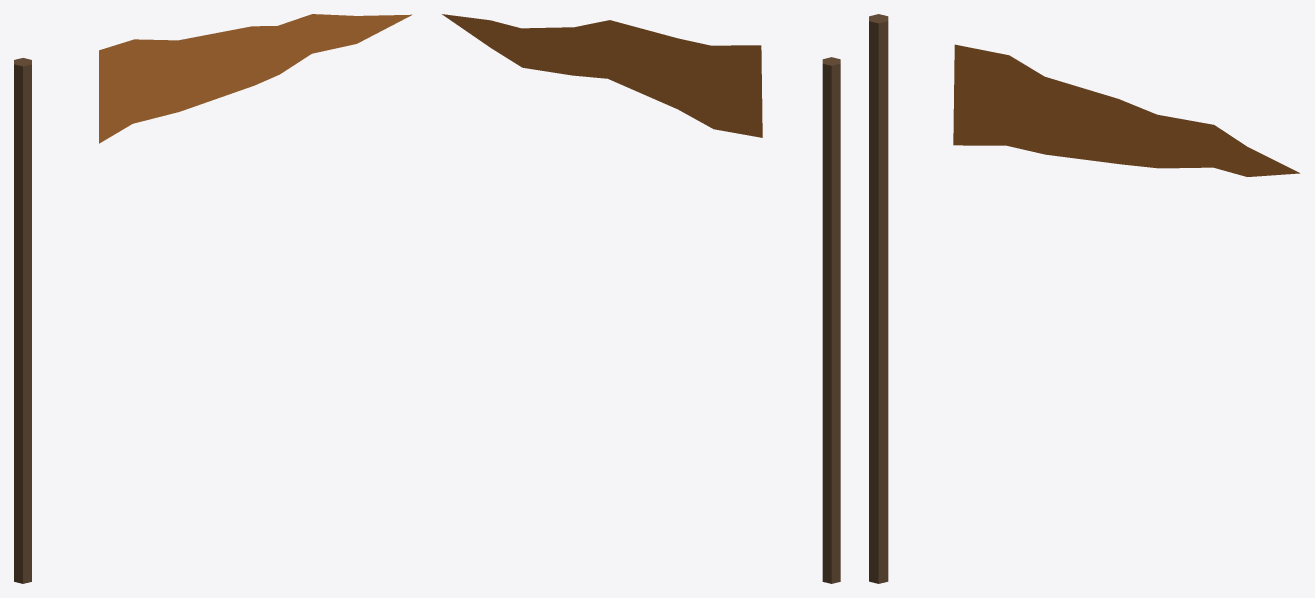
File: wavingflag.fbx
The picture shows the model from 3 angles, left to right: view 1: azimuth 30°, elevation 25°; view 2: azimuth 150°, elevation 25°; view 3: azimuth 330°, elevation 25°; orthographic projection. The views are drawn at different scales.
Visible parts, largest first — view 1: pPlane1, pCylinder1; view 2: pPlane1, pCylinder1; view 3: pPlane1, pCylinder1.
Boxes of the visible parts, box(x1,y1,x2,y2) form: pPlane1: box(99, 14, 412, 143); pCylinder1: box(14, 58, 31, 583); pPlane1: box(442, 14, 762, 137); pCylinder1: box(822, 57, 840, 583); pPlane1: box(953, 44, 1299, 176); pCylinder1: box(869, 14, 888, 583).
Size of the model in its own units: 11.09 by 13.75 by 0.7111.
